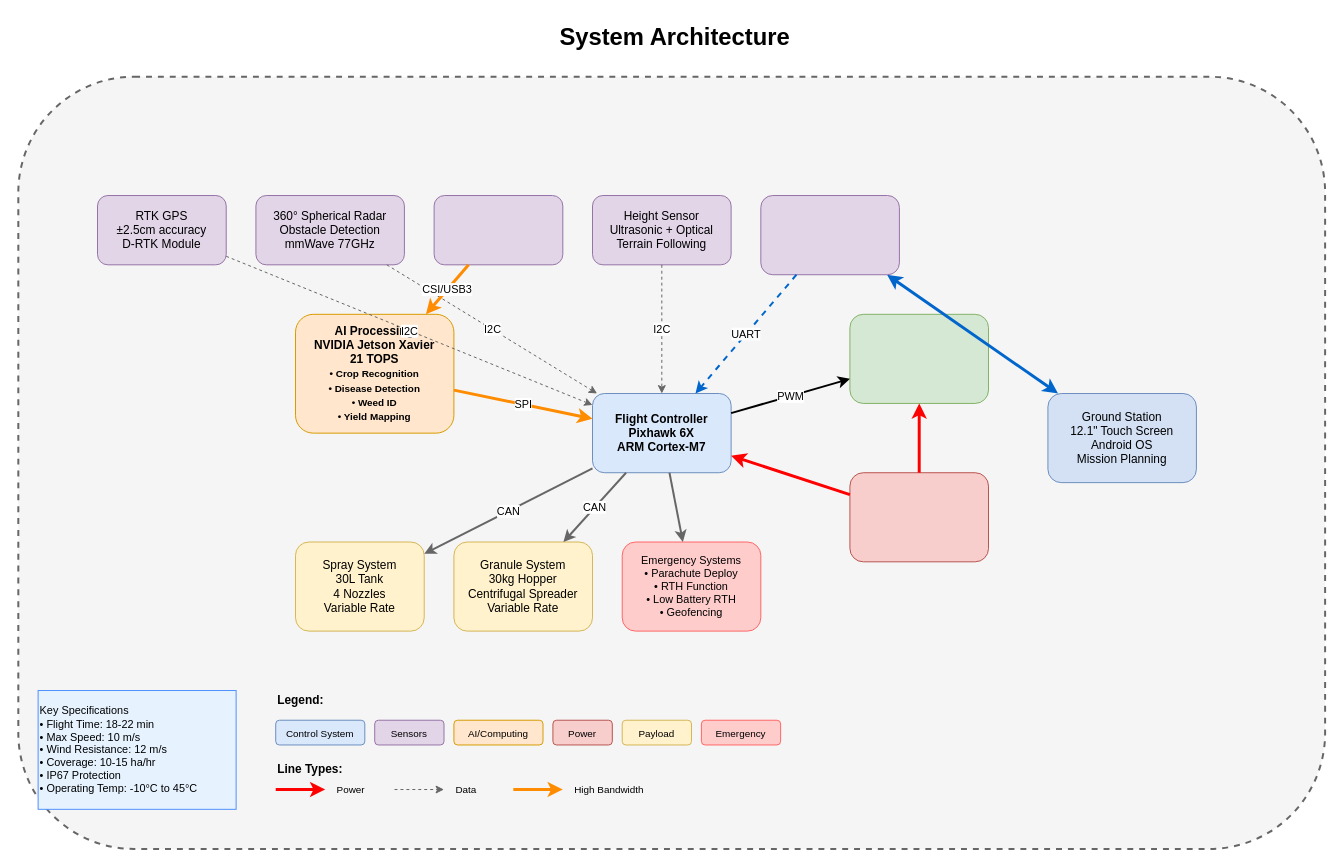
The diagram is 1342 pixels wide and 866 high, and some of its shapes have lost their labels. Here are the shapes that lost their labels. From the top down, the box of each, then its label:
(433, 195, 563, 265): Dual FPV Camera 4K Front & Rear CSI Interface
(760, 195, 899, 275): Communication 915MHz Telemetry 5.8GHz Video 5km Range
(849, 313, 989, 403): Motor System X8 Configuration 8x ESC 60A 10kW Brushless
(849, 472, 989, 562): Power System LiPo 6S 22000mAh Dual Battery Smart BMS
